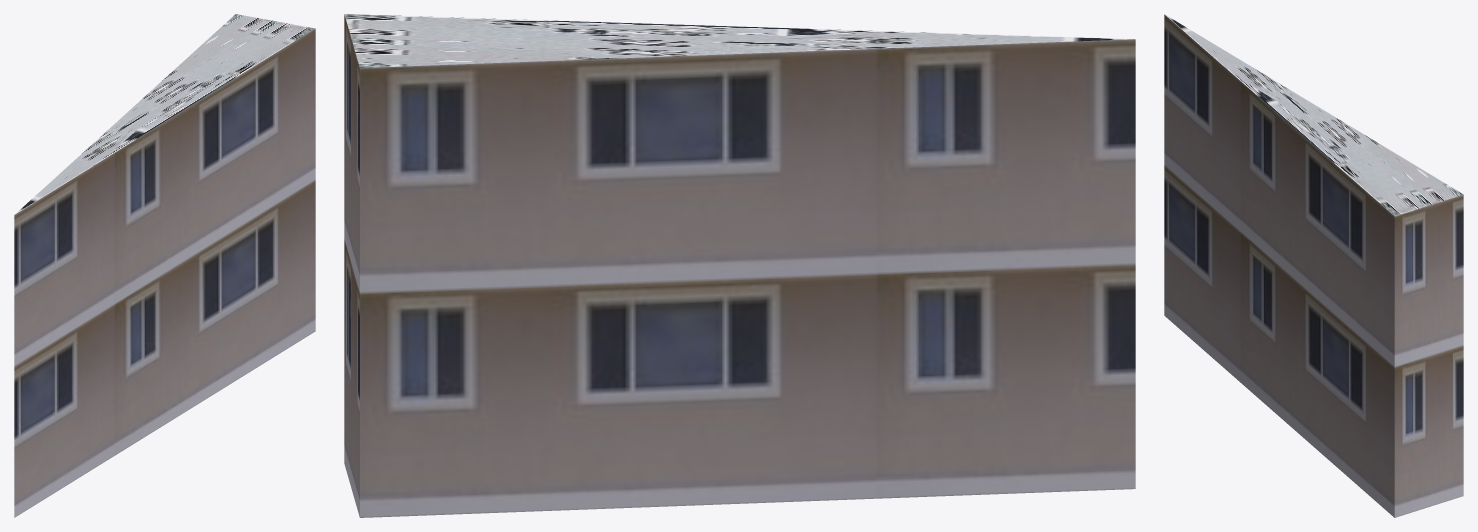
The model's file is ResTex__4757.fbx.
3 renders of one model, left to right at view 1: azimuth 30°, elevation 25°; view 2: azimuth 150°, elevation 25°; view 3: azimuth 270°, elevation 25°, orthographic. The views are drawn at different scales.
Visible parts, largest first — view 1: CityEngineMaterial_21_m, CityEngineMaterial_m; view 2: CityEngineMaterial_21_m, CityEngineMaterial_m; view 3: CityEngineMaterial_21_m, CityEngineMaterial_m.
Part boxes in pixels (x1,y1,x2,y2): CityEngineMaterial_21_m: [14, 28, 315, 517]; CityEngineMaterial_m: [16, 14, 314, 213]; CityEngineMaterial_21_m: [344, 14, 1135, 517]; CityEngineMaterial_m: [344, 14, 1134, 67]; CityEngineMaterial_21_m: [1164, 14, 1463, 517]; CityEngineMaterial_m: [1165, 14, 1463, 216].
Bounding box in the file's own units: 8.64 × 6 × 5.4.
2 materials, 2 textured.
